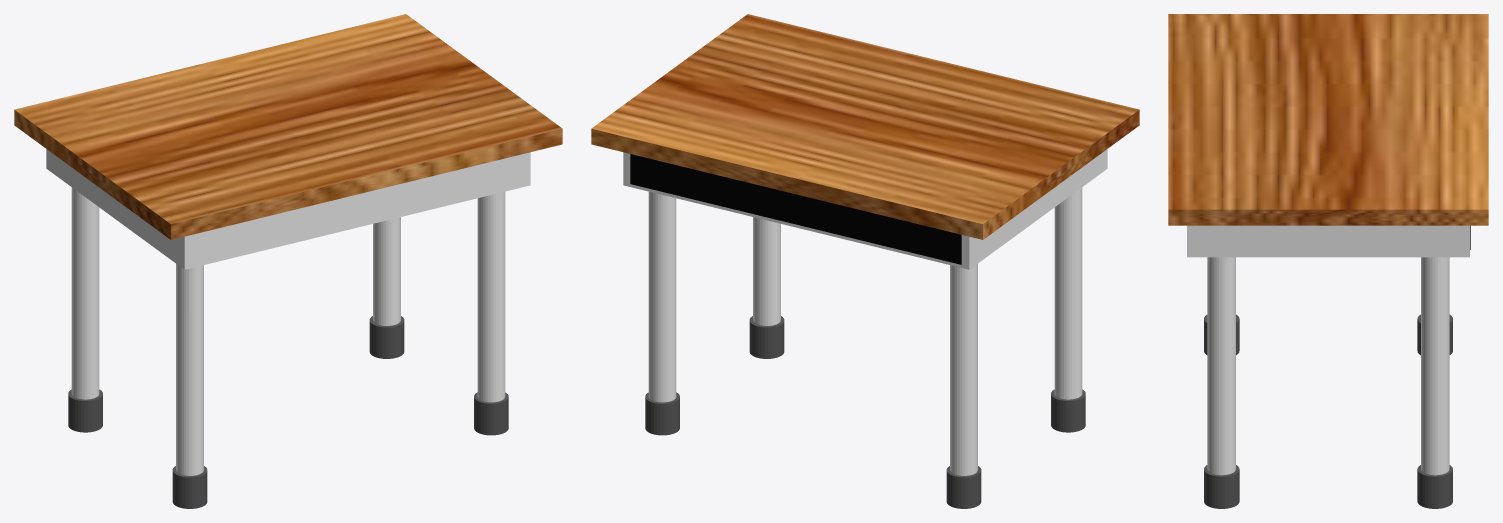
Rendered from desk.fbx.
3 renders of one model, left to right at view 1: azimuth 30°, elevation 25°; view 2: azimuth 150°, elevation 25°; view 3: azimuth 270°, elevation 25°, orthographic. The views are drawn at different scales.
Visible parts, largest first — view 1: 立方体.001; view 2: 立方体.001; view 3: 立方体.001.
Part boxes in pixels (bbox=[...]): 立方体.001: bbox=[14, 14, 562, 508]; 立方体.001: bbox=[591, 14, 1139, 508]; 立方体.001: bbox=[1168, 14, 1488, 508].
Bounding box in the file's own units: 1300 × 975 × 900.
